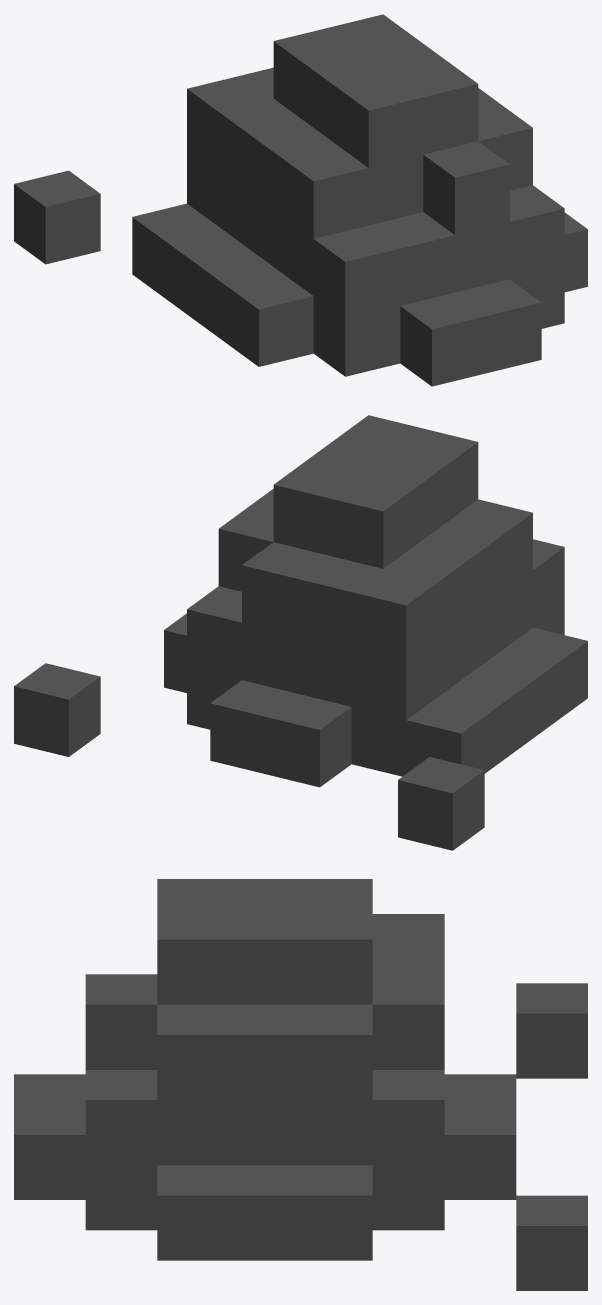
The model's file is MediumRock2.obj.
3 views of the same model, one above another, from view 1: azimuth 30°, elevation 25°; view 2: azimuth 150°, elevation 25°; view 3: azimuth 270°, elevation 25° (orthographic). The views are drawn at different scales.
Visible parts, largest first — view 1: MediumRock2; view 2: MediumRock2; view 3: MediumRock2.
Part boxes in pixels (left/top/right/bottom): MediumRock2: left=14, top=14, right=587, bottom=386; MediumRock2: left=14, top=415, right=587, bottom=850; MediumRock2: left=14, top=879, right=587, bottom=1290.
Bounding box in the file's own units: 8 × 4 × 8.
1 material, 1 textured.
